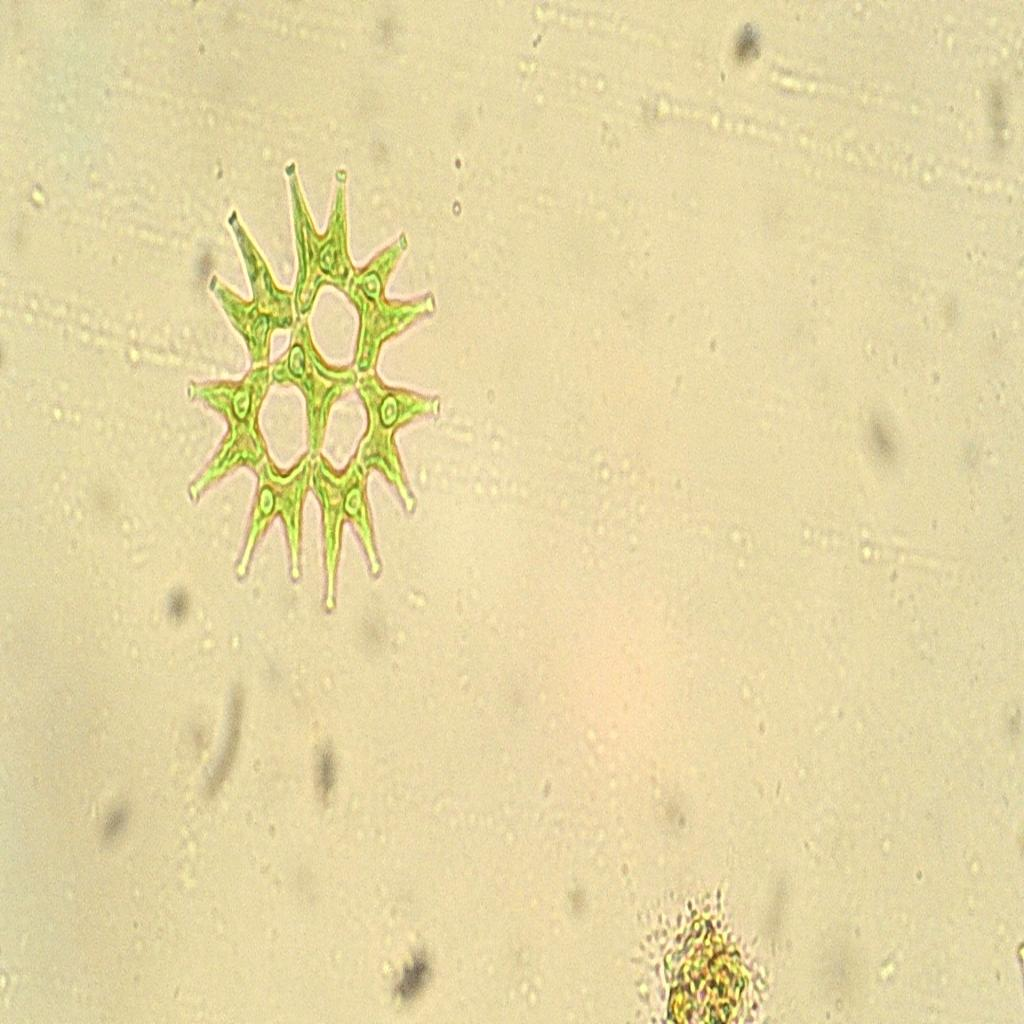Pediastrum_1T: (166, 138, 470, 632)
